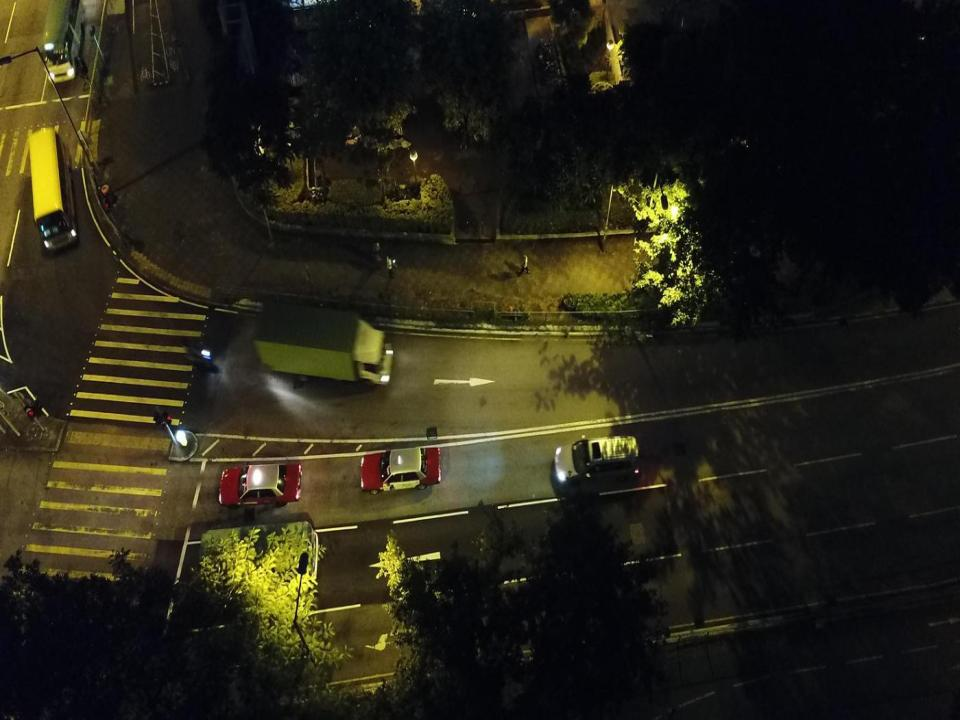bus: (29, 127, 78, 251), (42, 0, 86, 85)
car: (554, 434, 641, 489), (360, 447, 441, 495), (218, 463, 301, 509)
truck: (253, 302, 395, 392)
